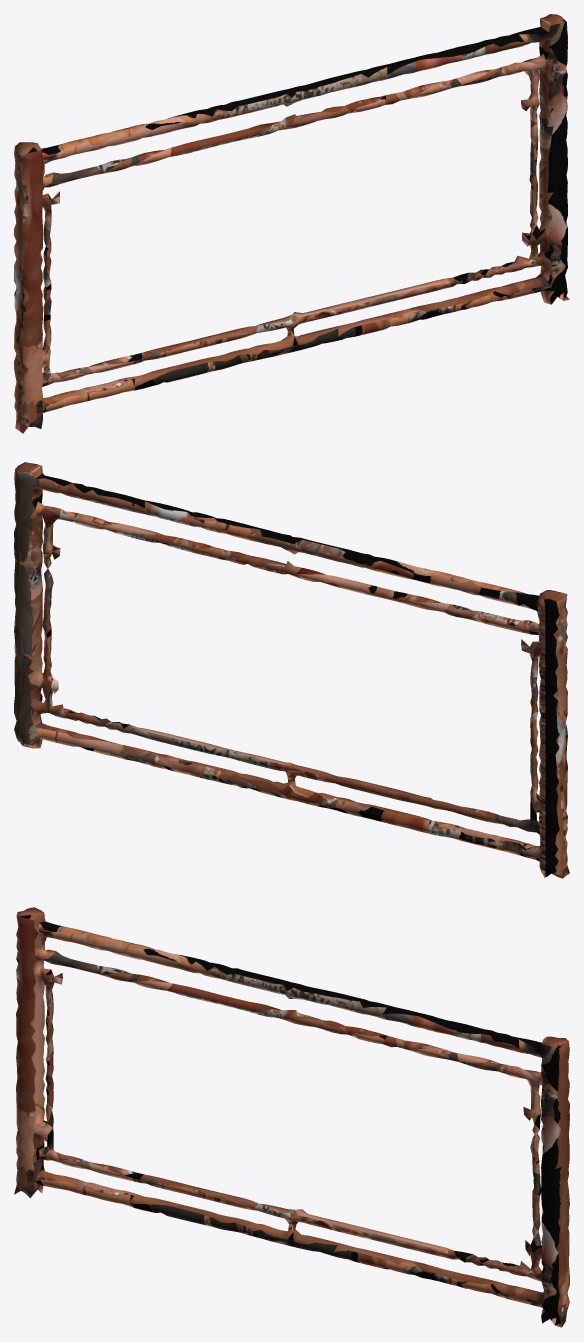
Rendered from YardFence.fbx.
3 renders of one model, top to bottom at view 1: azimuth 30°, elevation 25°; view 2: azimuth 150°, elevation 25°; view 3: azimuth 330°, elevation 25°, orthographic.
Visible parts, largest first — view 1: YardFence; view 2: YardFence; view 3: YardFence.
Part boxes in pixels (left/top/right/bottom): YardFence: left=14, top=14, right=569, bottom=433; YardFence: left=14, top=462, right=569, bottom=878; YardFence: left=14, top=907, right=569, bottom=1327.
Bounding box in the file's own units: 300 × 147 × 12.56.
